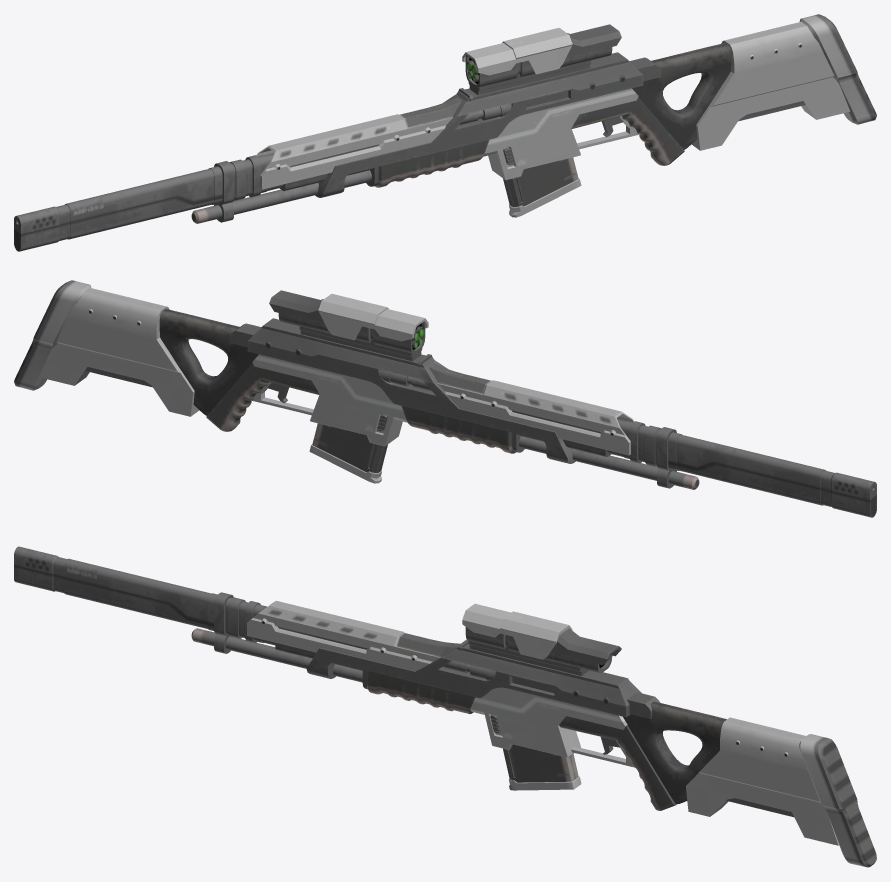
Rendered from Sniper.glb.
3 views of the same model, one above another, from view 1: azimuth 30°, elevation 25°; view 2: azimuth 150°, elevation 25°; view 3: azimuth 330°, elevation 25° (orthographic).
Parts seen in each view (by area): view 1: Gun_Sniper; view 2: Gun_Sniper; view 3: Gun_Sniper.
Boxes of the visible parts, x1=… form: Gun_Sniper: x1=14, y1=14, x2=876, y2=251; Gun_Sniper: x1=14, y1=280, x2=876, y2=517; Gun_Sniper: x1=14, y1=546, x2=876, y2=867.
Size of the model in its own units: 1.72 by 0.3299 by 0.0592.
Materials: 1 (1 with a texture image).
